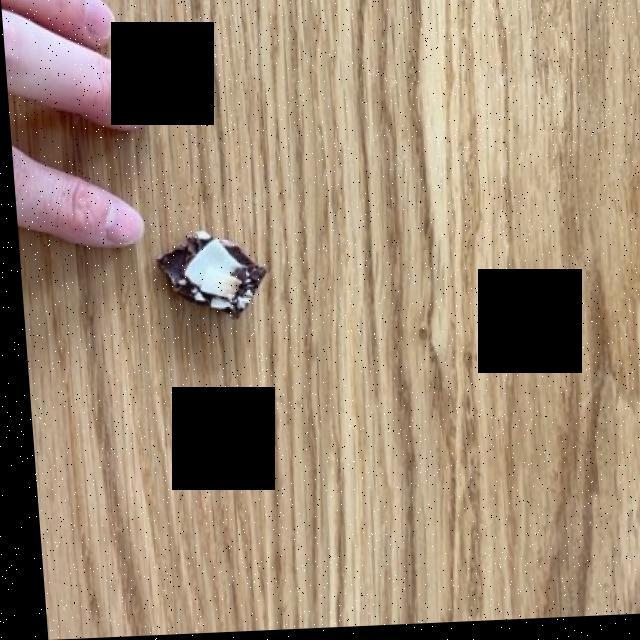chocolate: (155, 240, 261, 316)
coconut: (180, 241, 245, 319)
